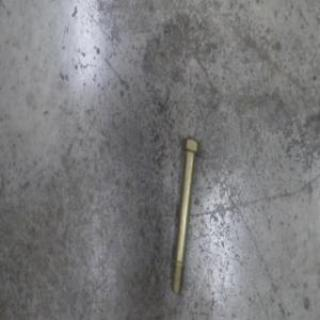Bolttrack_idkeyframe: (169, 136, 200, 294)
